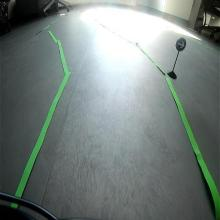right: (175, 36, 187, 52)
